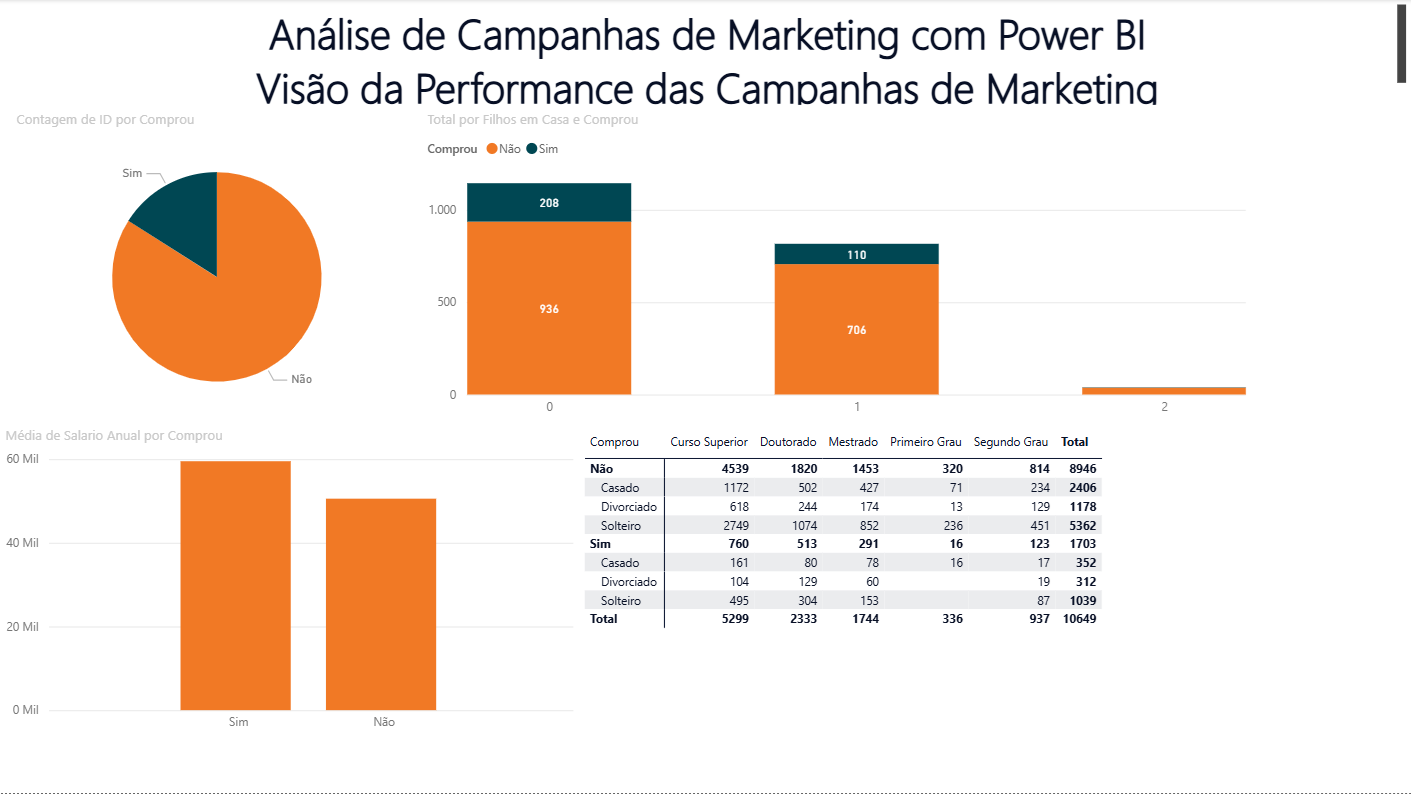

What the dashboard file says about the page in this screenshot:
{"tool":"powerbi","page":{"name":"Visão Campanhas","canvas":[1280,720],"ordinal":2},"visuals":[{"type":"textbox","box":[9.9,0,1270.3,100.5],"z":0},{"type":"pieChart","fields":{"Category":["DadosMarketing.Comprou"],"Y":["CountNonNull(DadosMarketing.ID)"]},"box":[9.5,101,373.3,286.7],"z":1000},{"type":"columnChart","fields":{"Category":["DadosMarketing.Comprou"],"Y":["Avg(DadosMarketing.Salario Anual)"]},"box":[0,387.6,524.8,286.7],"z":2000},{"type":"pivotTable","fields":{"Rows":["DadosMarketing.Comprou","DadosMarketing.Estado Civil"],"Values":["Sum(DadosMarketing.Numero Visitas WebSite Mes)"],"Columns":["DadosMarketing.Escolaridade"]},"box":[524.8,387.6,610.5,286.7],"z":3000},{"type":"columnChart","fields":{"Category":["DadosMarketing.Filhos em Casa"],"Series":["DadosMarketing.Comprou"],"Y":["CountNonNull(DadosMarketing.Filhos em Casa)"]},"box":[382.9,101,752.4,286.7],"z":4000}]}

Visuals, with their boxes in screenshot pixels (x1, y1, x2, y2), scaled from the page's 1280x720 canvas onto the 1411x794 screenshot:
textbox: 11,0,1410,111
pieChart - DadosMarketing.Comprou x CountNonNull(DadosMarketing.ID): 10,111,422,428
columnChart - DadosMarketing.Comprou x Avg(DadosMarketing.Salario Anual): 0,427,579,744
pivotTable - DadosMarketing.Comprou x DadosMarketing.Estado Civil: 579,427,1251,744
columnChart - DadosMarketing.Filhos em Casa x DadosMarketing.Comprou: 422,111,1251,428
